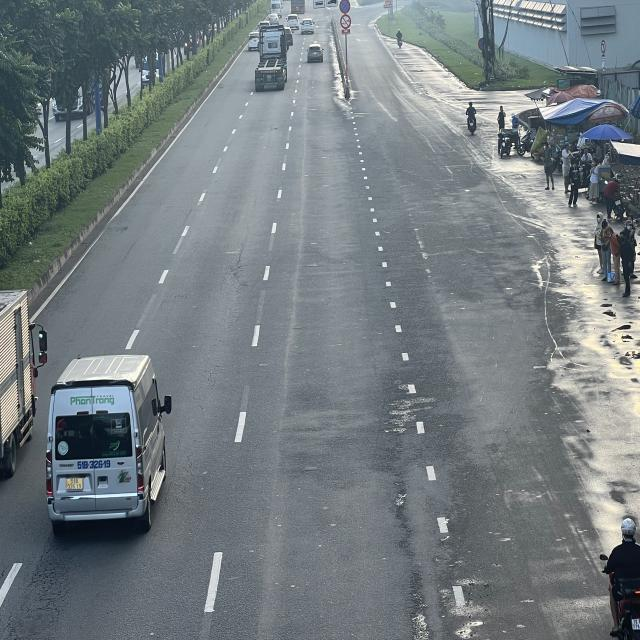container: (256, 25, 290, 90)
truck: (1, 291, 47, 483)
van: (48, 352, 175, 531)
